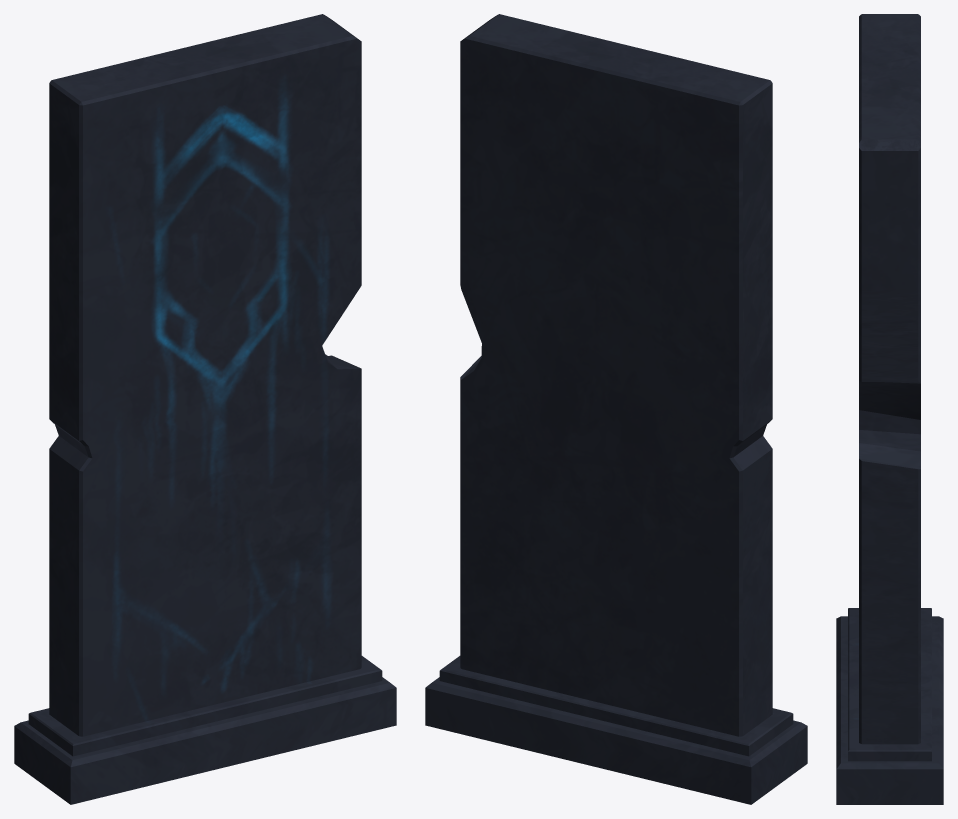
File: wouldObjectBoad01.fbx
3 views of the same model, side by side, from view 1: azimuth 30°, elevation 25°; view 2: azimuth 150°, elevation 25°; view 3: azimuth 270°, elevation 25° (orthographic). The views are drawn at different scales.
Parts seen in each view (by area): view 1: base3; view 2: base3; view 3: base3.
Boxes of the visible parts, left/top/right/bottom form: base3: left=14, top=14, right=396, bottom=804; base3: left=425, top=14, right=807, bottom=804; base3: left=836, top=14, right=943, bottom=804.
Size of the model in its own units: 173 by 349 by 51.99.
1 material, 1 textured.
